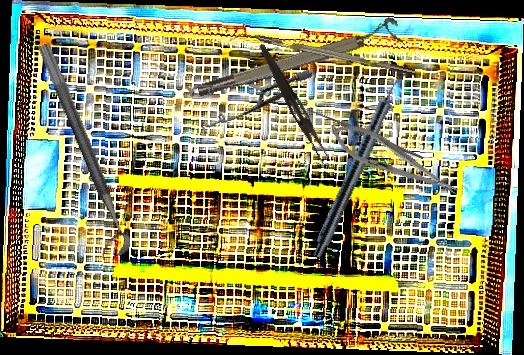Chopper: (229, 27, 416, 84)
Dressing Forceps: (252, 42, 336, 166)
Fixation Ring: (19, 41, 135, 263), (193, 15, 403, 101)
Handpiece: (309, 67, 410, 262)
Hook Surgical: (294, 65, 425, 204)
Needle Holder: (321, 112, 466, 209)
Speculum: (177, 39, 314, 157)
